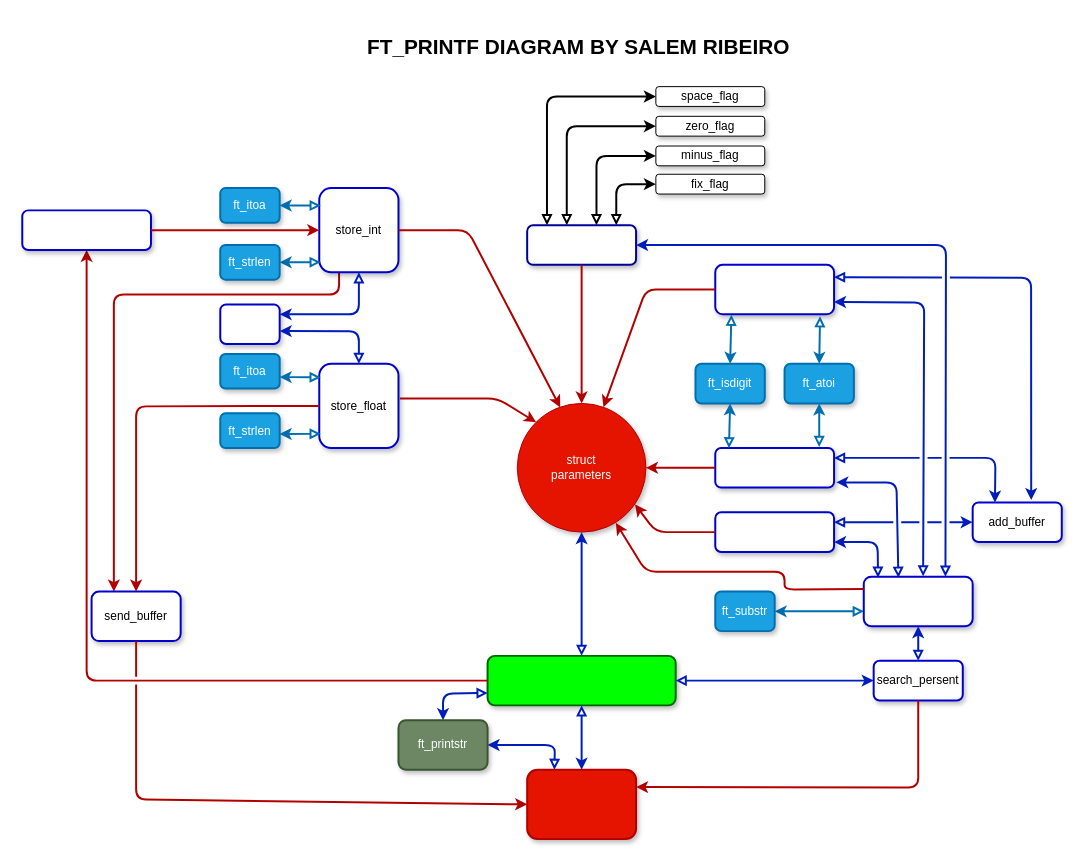
The diagram is 1085 pixels wide and 864 high, and some of its shapes have lost their labels. The shapes that lost their labels are listed below. From the top down, each one's centre as x and y in pixels, then its label:
At point (87, 231): "message_arg_solve".
At point (582, 246): "flag_options".
At point (775, 290): "width_options".
At point (250, 325): "put_zero".
At point (775, 469): "precision_options".
At point (775, 533): "length_options".
At point (918, 602): "specifier_options".
At point (582, 681): "ft_printf".
At point (582, 805): "message_buffer".
